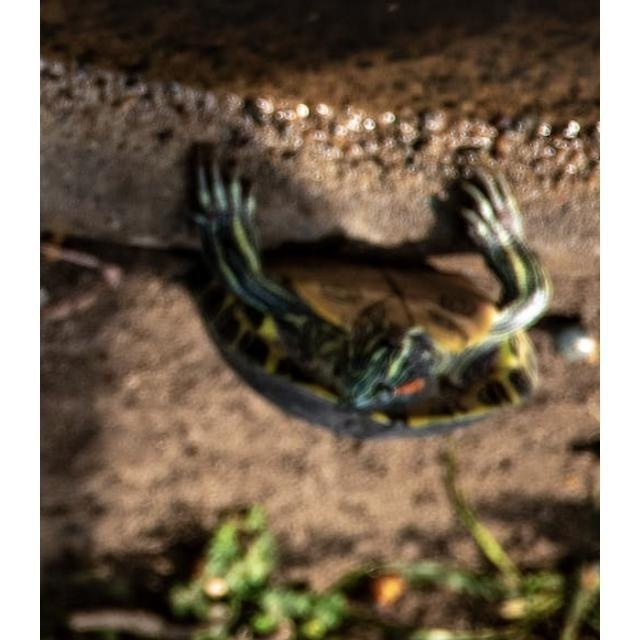turtle: (178, 143, 551, 440)
